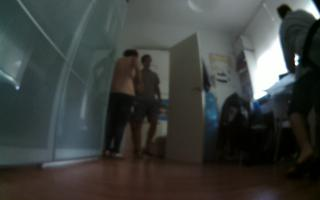person: (267, 2, 319, 183), (101, 48, 145, 163), (130, 52, 162, 163)
